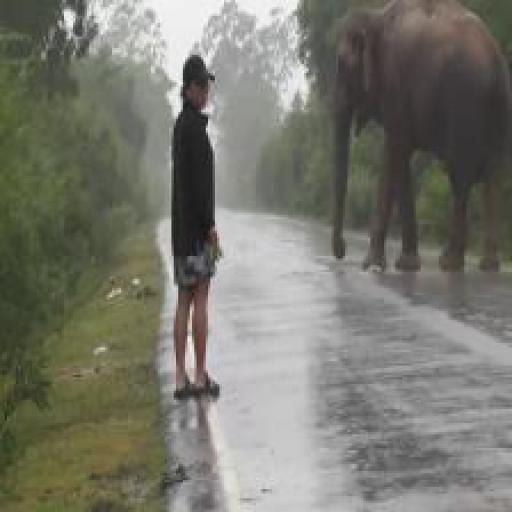Elephant: (333, 2, 512, 286)
